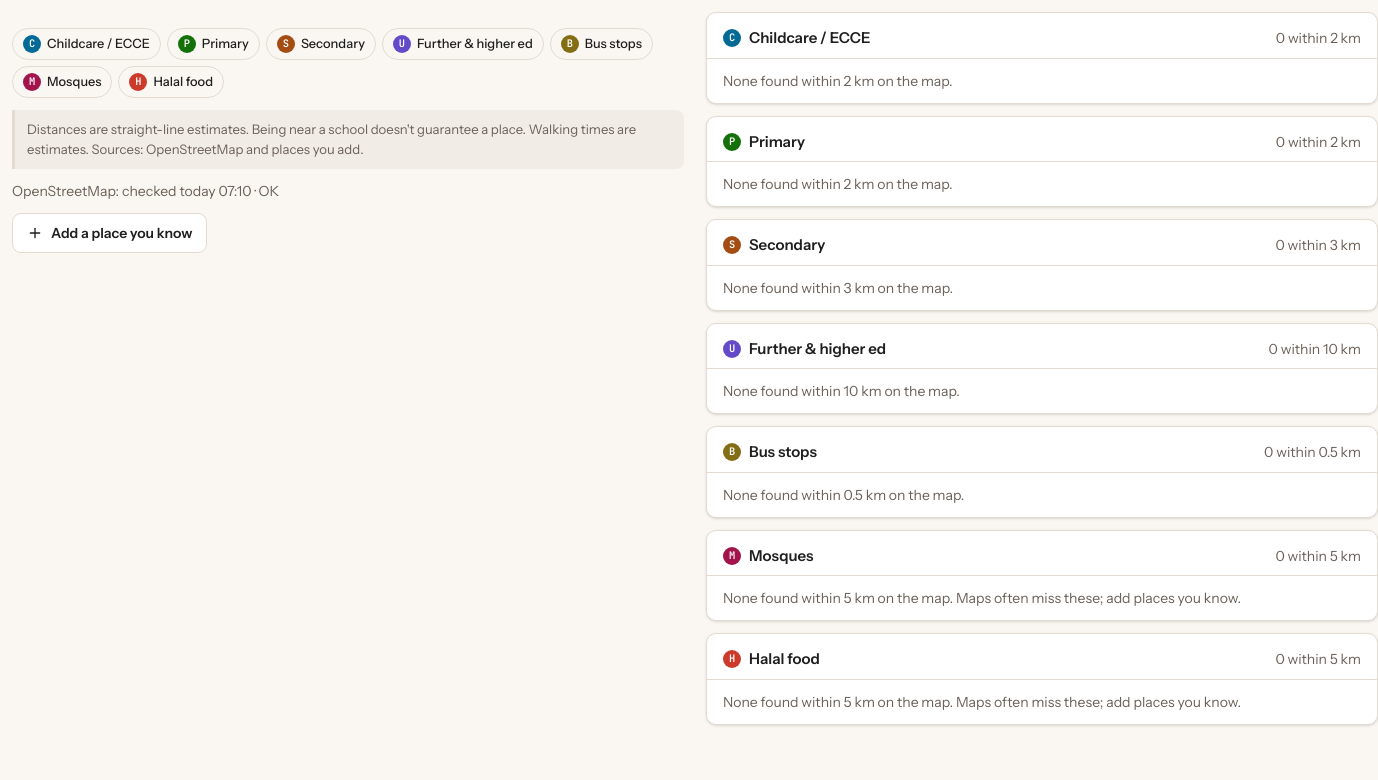
Test: NearbyView › opens the add-a-place form
What coordinates should you click on to do the following:
click the button "Add a place you know"
I would click on:
 (110, 233)
Its box is [12,213,208,253].
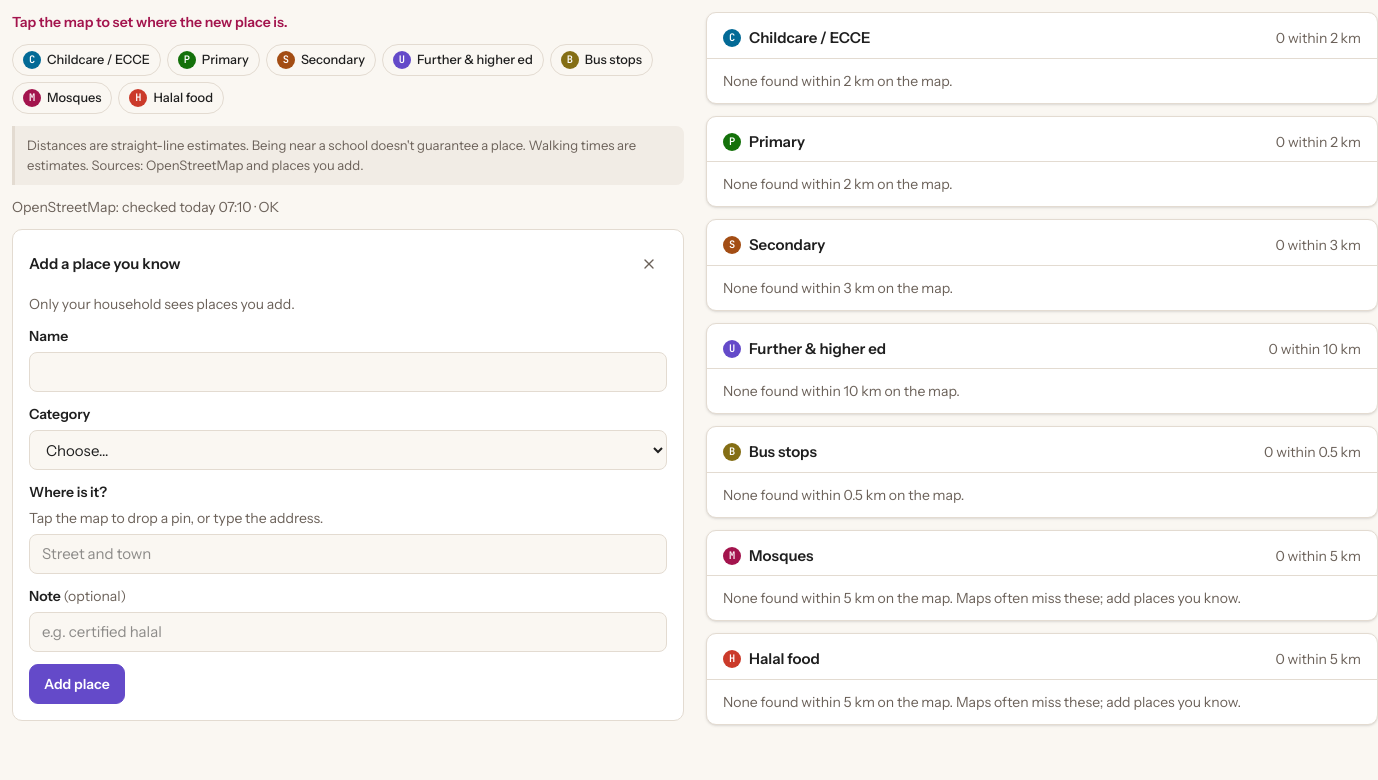
Result: the form "Add a place you know" is shown at [12,229,684,721]
Result: the text "Tap the map to set where the new place is." is shown at [12,13,288,31]
